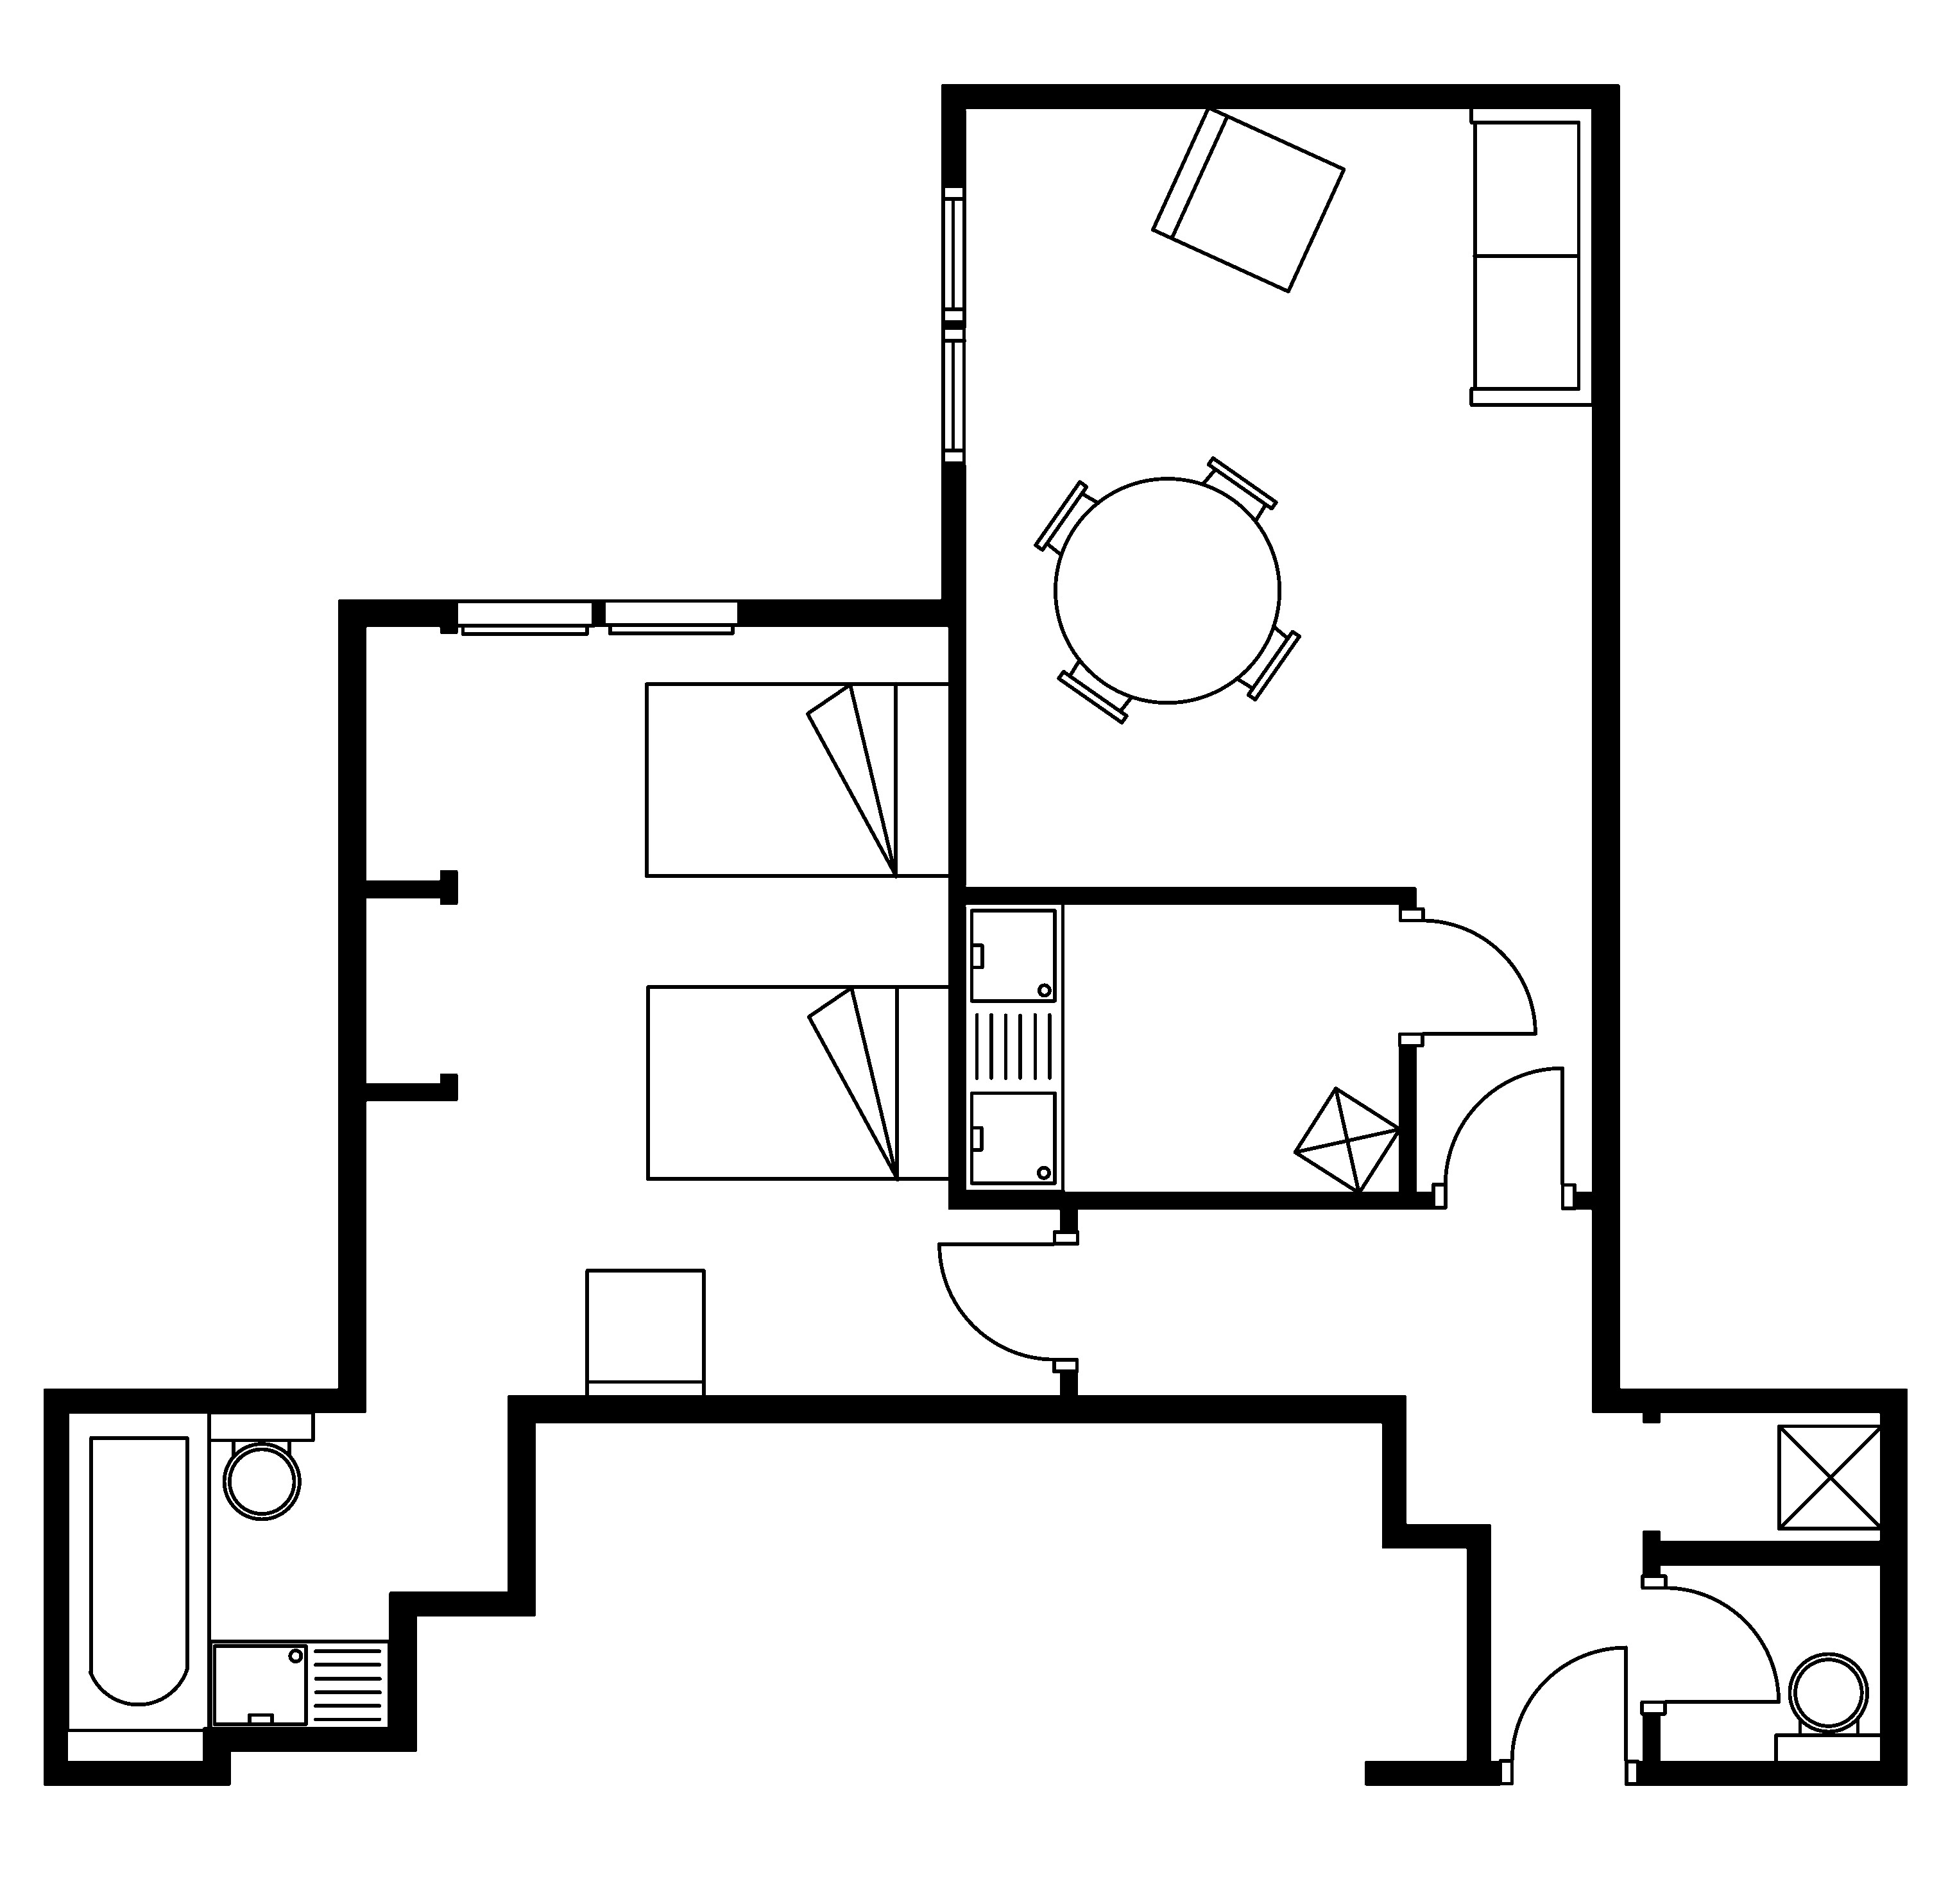bed: (644, 680, 952, 879), (645, 983, 954, 1182)
coffee_table: (1292, 1086, 1402, 1194), (1775, 1423, 1883, 1531)
large_sink: (1774, 1653, 1885, 1766), (206, 1411, 316, 1520)
large_sofa: (1468, 105, 1596, 406)
round_table: (1032, 455, 1301, 725)
sink: (208, 1639, 391, 1731)
small_sofa: (1149, 105, 1346, 293), (584, 1268, 706, 1402)
tub: (65, 1409, 211, 1733)
twin_sink: (961, 900, 1066, 1194)
